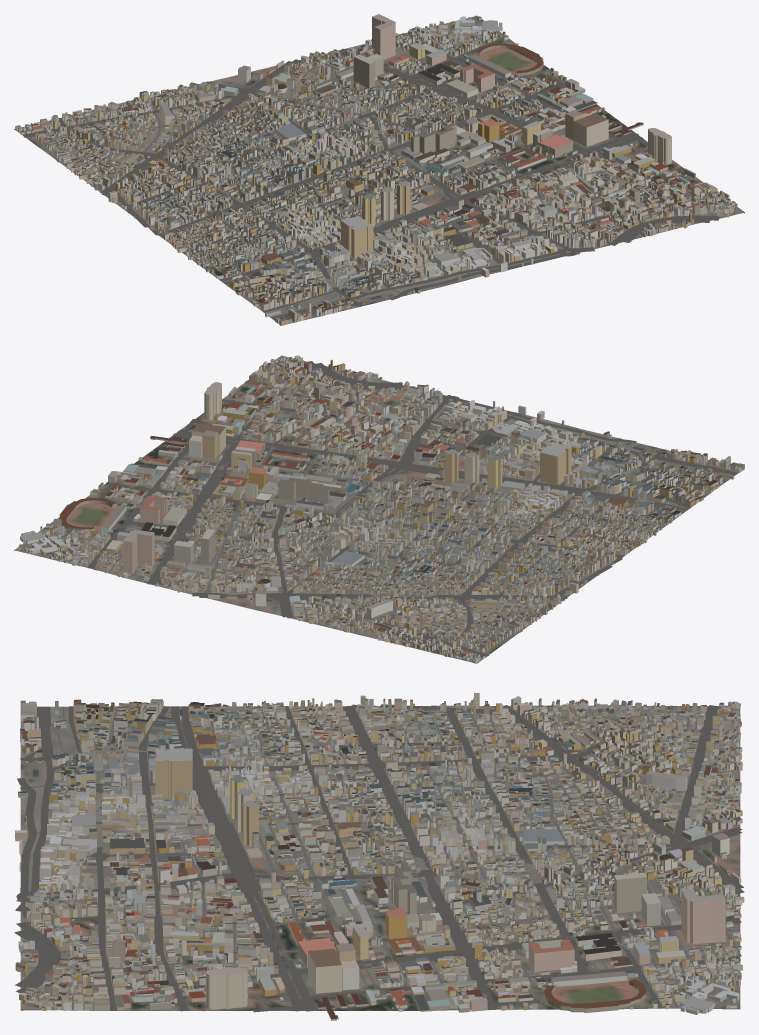
3 views of the same model, one above another, from view 1: azimuth 30°, elevation 25°; view 2: azimuth 150°, elevation 25°; view 3: azimuth 270°, elevation 25° (orthographic). The views are drawn at different scales.
Visible parts, largest first — view 1: buildings, ground, roads; view 2: buildings, ground, roads; view 3: buildings, roads, ground.
Boxes of the visible parts, <box> form: buildings: <box>15,14,737,325</box>; ground: <box>14,15,744,324</box>; roads: <box>22,17,735,320</box>; buildings: <box>17,355,744,663</box>; ground: <box>14,355,742,663</box>; roads: <box>19,361,738,662</box>; buildings: <box>15,693,744,1020</box>; roads: <box>14,704,744,1012</box>; ground: <box>20,705,740,1010</box>.
Size of the model in its own units: 1452 by 96.38 by 1423.
